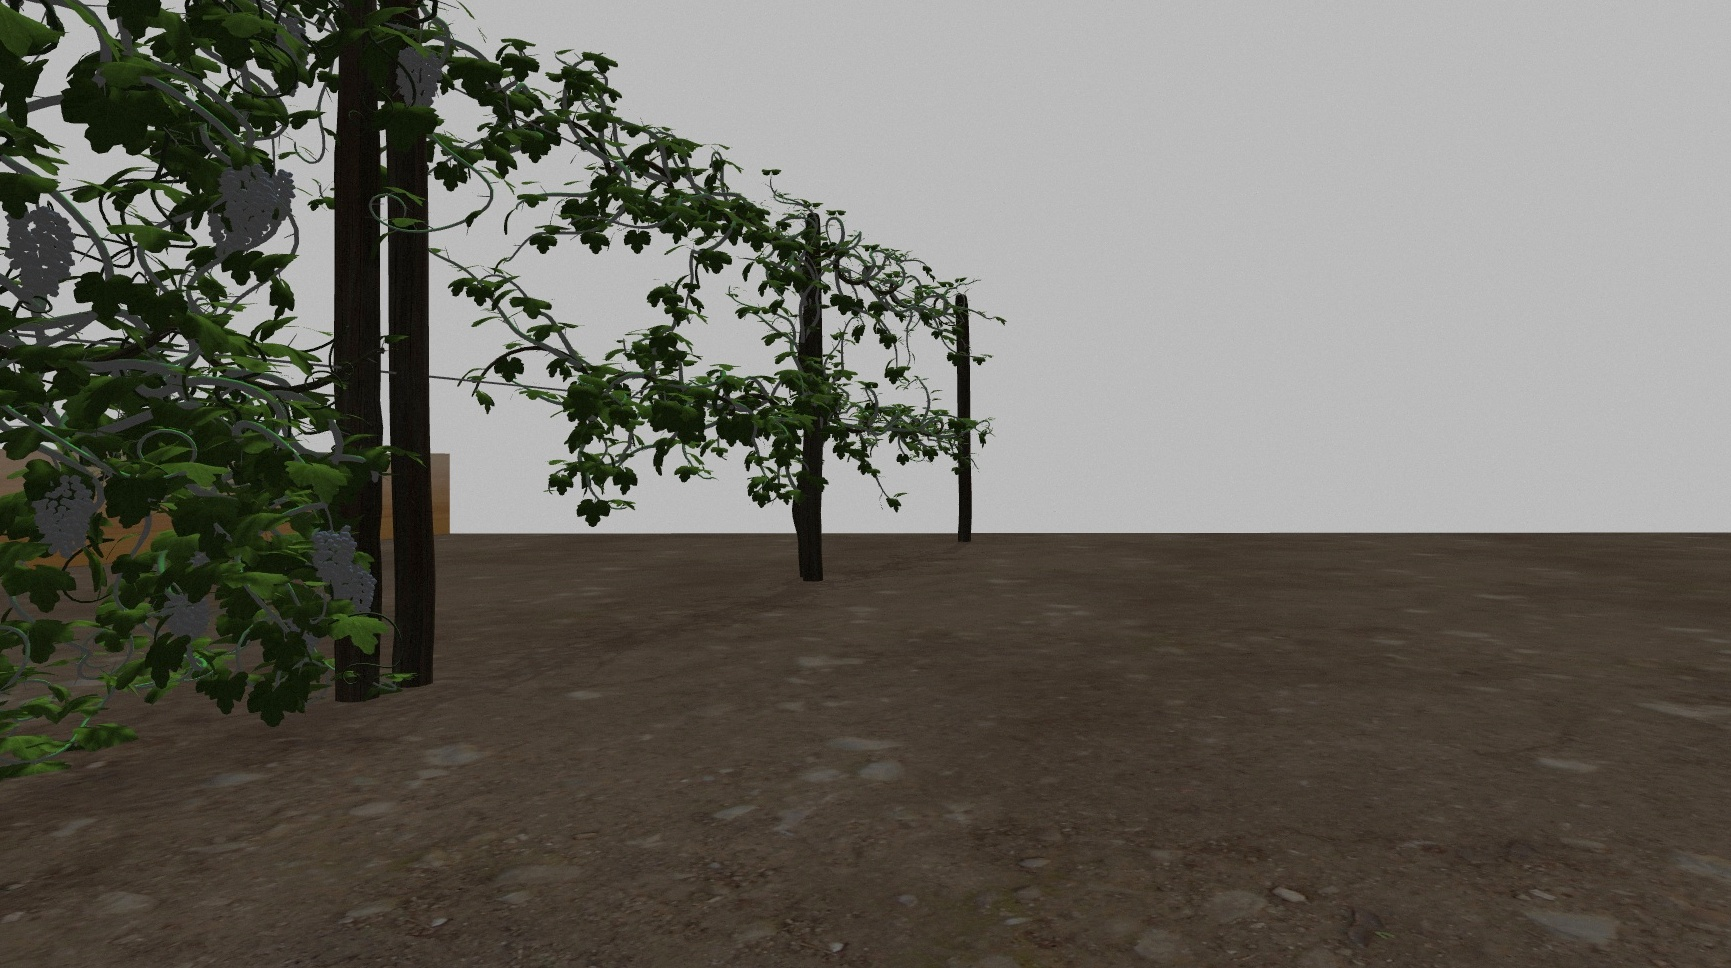grape: (7, 202, 76, 307), (31, 472, 93, 557), (224, 166, 279, 239), (394, 46, 442, 113), (160, 587, 219, 640), (310, 526, 357, 583), (341, 570, 380, 614), (270, 168, 296, 219)
